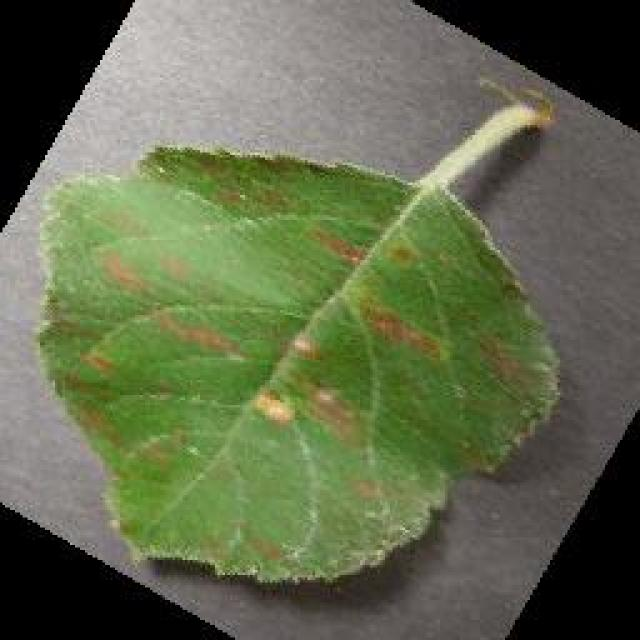apple cedar apple rust: (32, 77, 562, 585)
